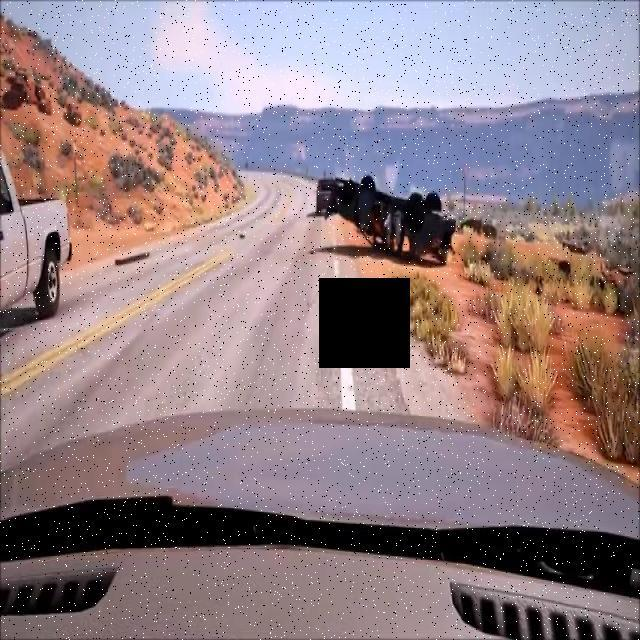severe: (326, 169, 454, 268)
